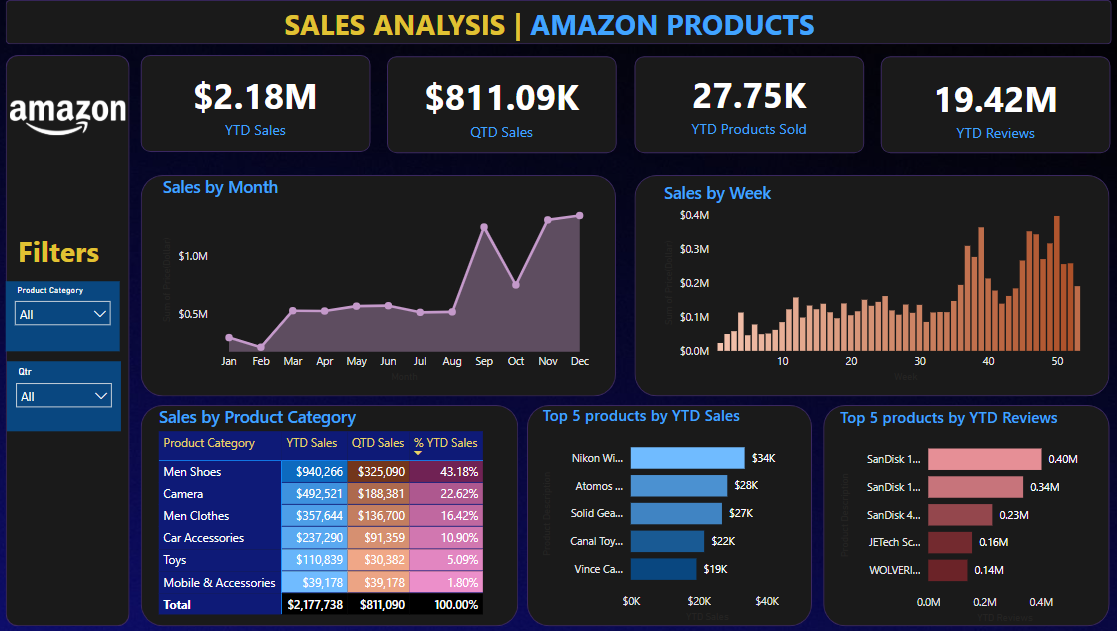

This screenshot's page, from the dashboard's own definition file:
{"tool":"powerbi","page":{"name":"Overview","canvas":[1280,720],"ordinal":0},"visuals":[{"type":"shape","box":[266.1,493.8,1010.2,226.4],"z":0},{"type":"shape","box":[585.2,193.3,356.1,312.5],"z":1000},{"type":"shape","box":[932.1,194.6,344.2,311.1],"z":2000},{"type":"shape","box":[266.1,88.7,328.3,417],"z":3000},{"type":"shape","box":[998.3,87.4,282,115.2],"z":4000},{"type":"shape","box":[0,0,1280.3,99],"z":5000},{"type":"image","box":[26.9,22,210.3,57.5],"z":6000},{"type":"shape","box":[0,89.3,277.6,631],"z":7000},{"type":"advancedSlicerVisual","fields":{"Values":["amazon-fashion - YT.Category"]},"box":[21.2,103.3,243.6,598.4],"z":8000},{"type":"pageNavigator","box":[734.8,18.5,525.6,59.6],"z":9000},{"type":"image","box":[752,30.6,40.4,35.5],"z":10000},{"type":"textSearchSlicerF85E2E78BE4A4D7D9F99ED75B5D71C85","fields":{"fields":["amazon-fashion - YT.Category"]},"box":[284.9,14.7,443.9,70.9],"z":11000},{"type":"slicer","fields":{"Values":["Amazon.Status"]},"box":[284.7,115.2,291.3,376],"z":12000},{"type":"advancedSlicerVisual","fields":{"Values":["Sale_Option.Name"]},"box":[1024.7,111.2,235.7,68.8],"z":13000},{"type":"clusteredBarChart","title":"Sales by State","fields":{"Category":["Amazon.ship-state"],"Y":["Amazon.Filter_Sale"]},"box":[951.9,210.5,308.5,278],"z":14000},{"type":"clusteredBarChart","title":"Sales by City","fields":{"Category":["Amazon.ship-city"],"Y":["Amazon.Filter_Sale"]},"box":[603.7,210.5,319.1,278],"z":15000},{"type":"areaChart","title":"Sales by City","fields":{"Category":["Amazon.Date"],"Y":["Amazon.Filter_Sale"]},"box":[284.7,508.4,975.8,193.3],"z":16000},{"type":"shape","box":[585.2,87.4,422.3,115.2],"z":17000},{"type":"cardVisual","fields":{"Data":["Amazon.Overall_Sale"]},"box":[603.7,111.2,115.2,68.8],"z":18000},{"type":"cardVisual","fields":{"Data":["Amazon.Filter_Sale"]},"box":[736.1,111.2,119.2,68.8],"z":19000},{"type":"cardVisual","fields":{"Data":["Amazon.seller count"]},"box":[864.5,111.2,117.8,66.2],"z":20000},{"type":"shape","box":[720.2,115.2,15.9,66.2],"z":21000},{"type":"shape","box":[851.3,115.2,21.2,66.2],"z":22000}]}

Visuals, with their boxes in screenshot pixels (x1, y1, x2, y2), scaled from the page's 1280x720 canvas onto the 1117x631 screenshot:
shape: box=[232, 433, 1114, 630]
shape: box=[511, 169, 821, 443]
shape: box=[813, 171, 1114, 443]
shape: box=[232, 78, 519, 443]
shape: box=[871, 77, 1116, 178]
shape: box=[0, 0, 1116, 87]
image: box=[23, 19, 207, 70]
shape: box=[0, 78, 242, 630]
advancedSlicerVisual - amazon-fashion - YT.Category: box=[19, 91, 231, 615]
pageNavigator: box=[641, 16, 1100, 68]
image: box=[656, 27, 691, 58]
textSearchSlicerF85E2E78BE4A4D7D9F99ED75B5D71C85 - amazon-fashion - YT.Category: box=[249, 13, 636, 75]
slicer - Amazon.Status: box=[248, 101, 503, 430]
advancedSlicerVisual - Sale_Option.Name: box=[894, 97, 1100, 158]
"Sales by State" clusteredBarChart: box=[831, 184, 1100, 428]
"Sales by City" clusteredBarChart: box=[527, 184, 805, 428]
"Sales by City" areaChart: box=[248, 446, 1100, 615]
shape: box=[511, 77, 879, 178]
cardVisual - Amazon.Overall_Sale: box=[527, 97, 627, 158]
cardVisual - Amazon.Filter_Sale: box=[642, 97, 746, 158]
cardVisual - Amazon.seller count: box=[754, 97, 857, 155]
shape: box=[628, 101, 642, 159]
shape: box=[743, 101, 761, 159]
